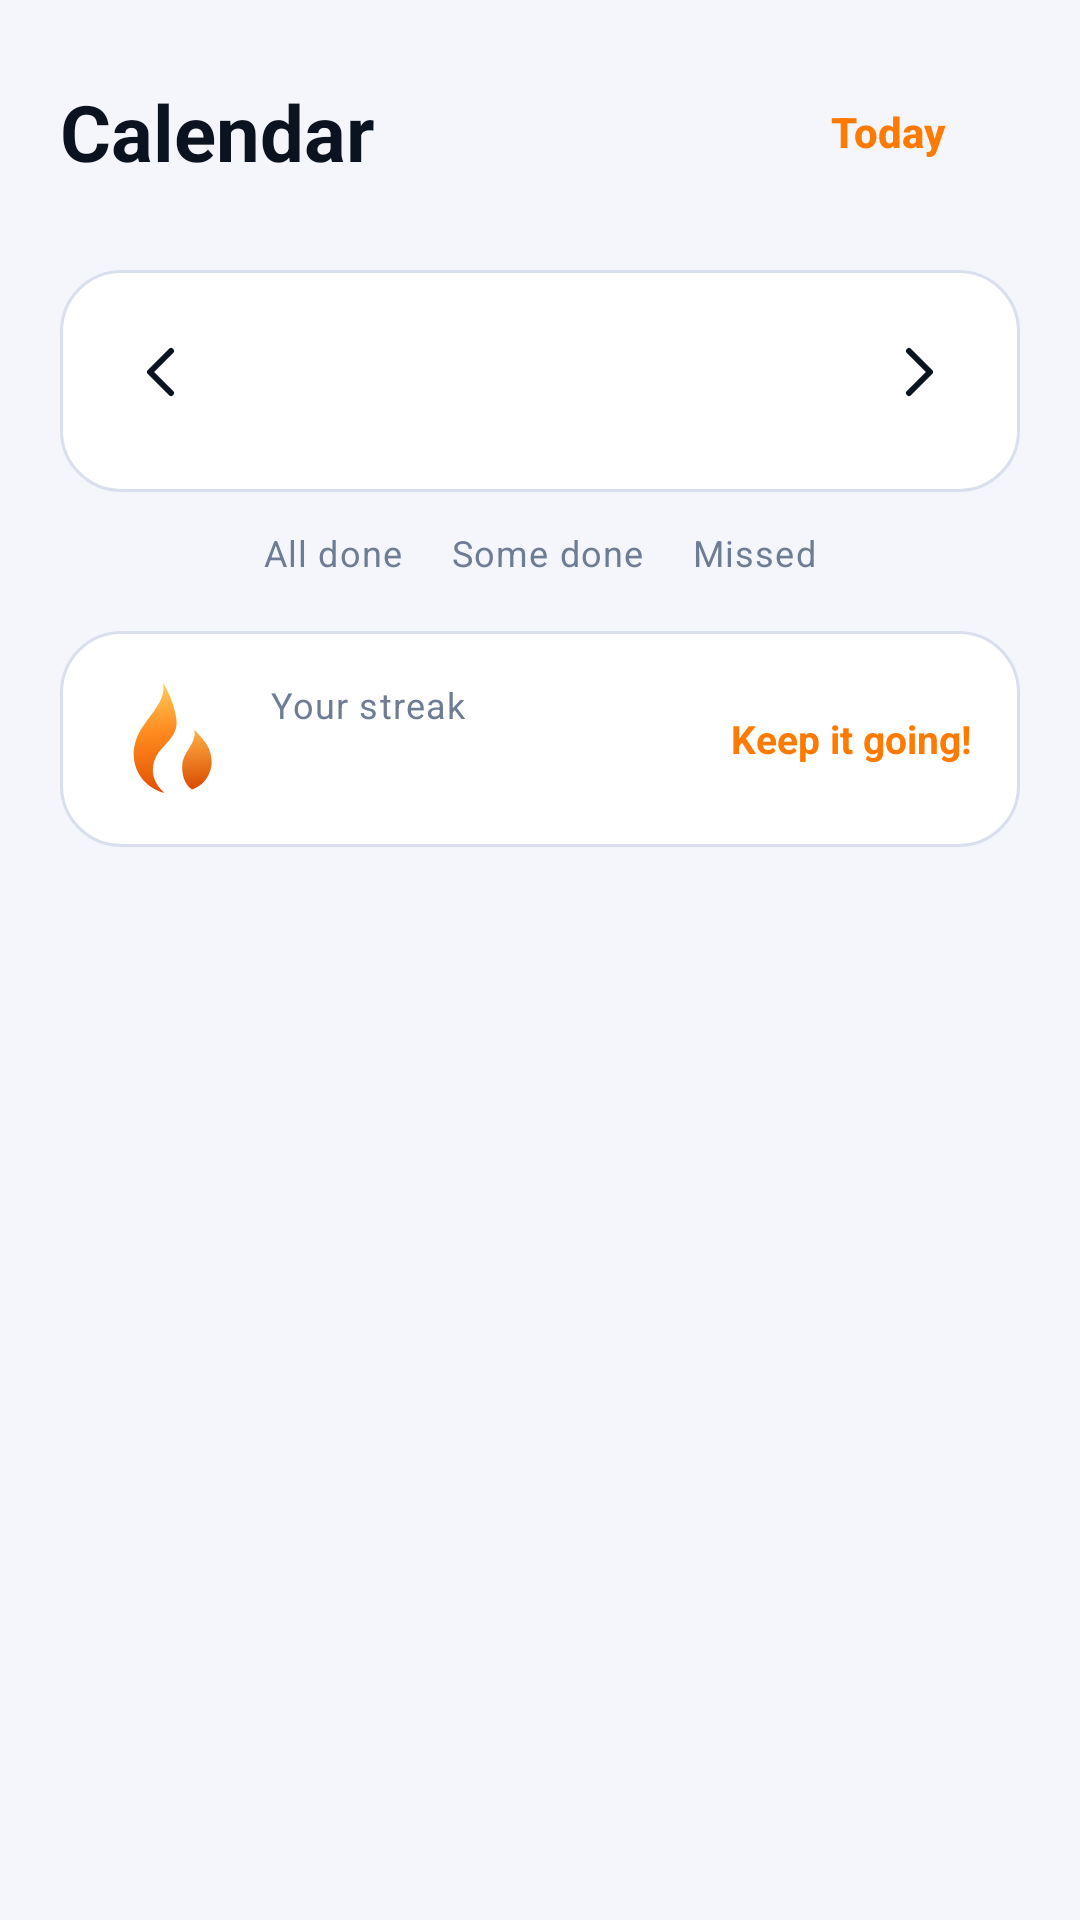

Icons on this 1080w x 1920h Android screen, each with its box as box(x1, y1, x2, y2):
flame: box(133, 683, 212, 793)
Next month: box(906, 348, 933, 396)
Previous month: box(147, 348, 174, 396)
